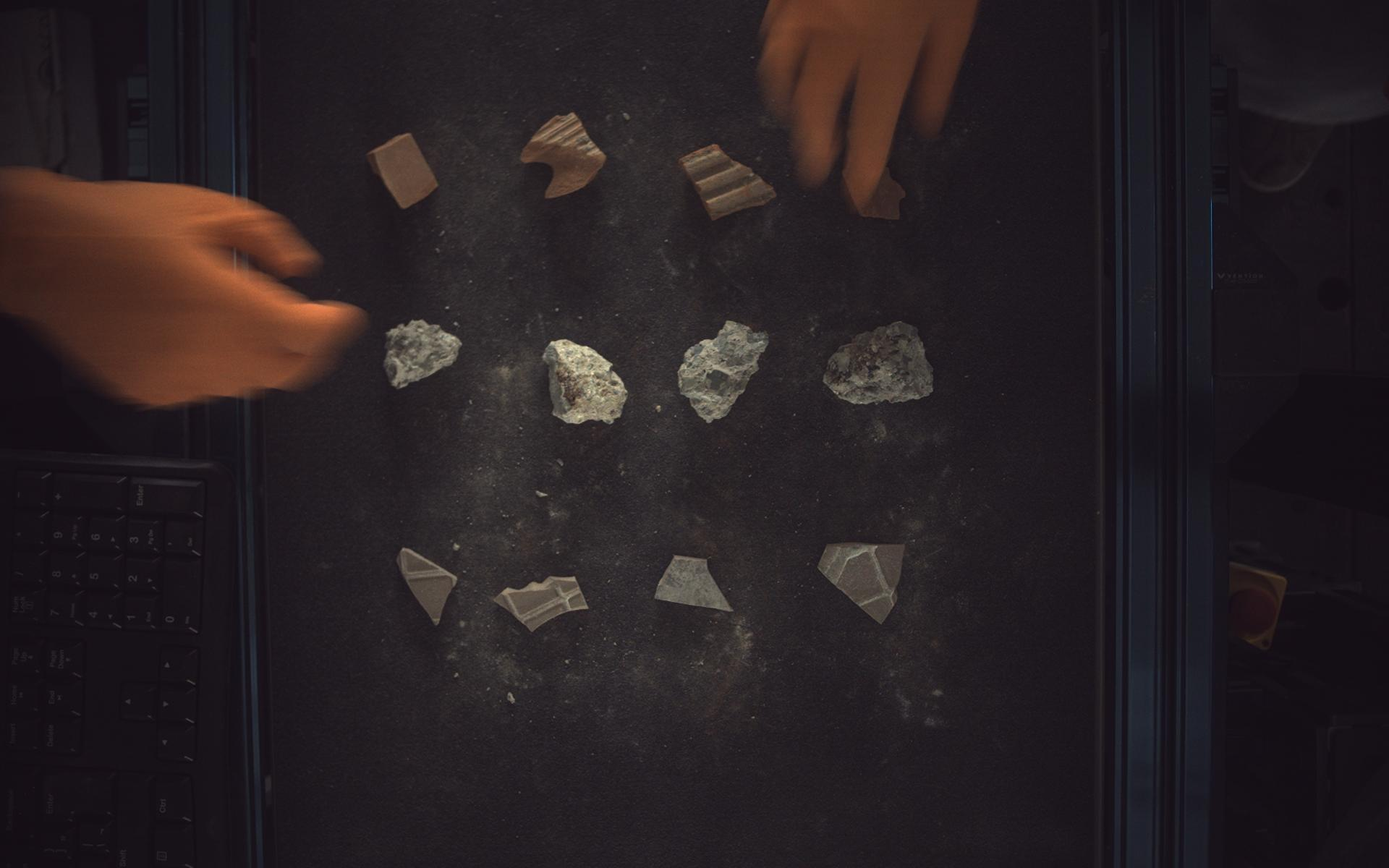brick: (679, 142, 777, 220), (521, 111, 607, 197), (367, 132, 438, 208)
concrete: (679, 320, 769, 422), (825, 321, 935, 404), (543, 339, 628, 424), (384, 319, 461, 388)
tile: (820, 543, 906, 624), (493, 576, 588, 632), (397, 548, 457, 626), (656, 557, 734, 613)
